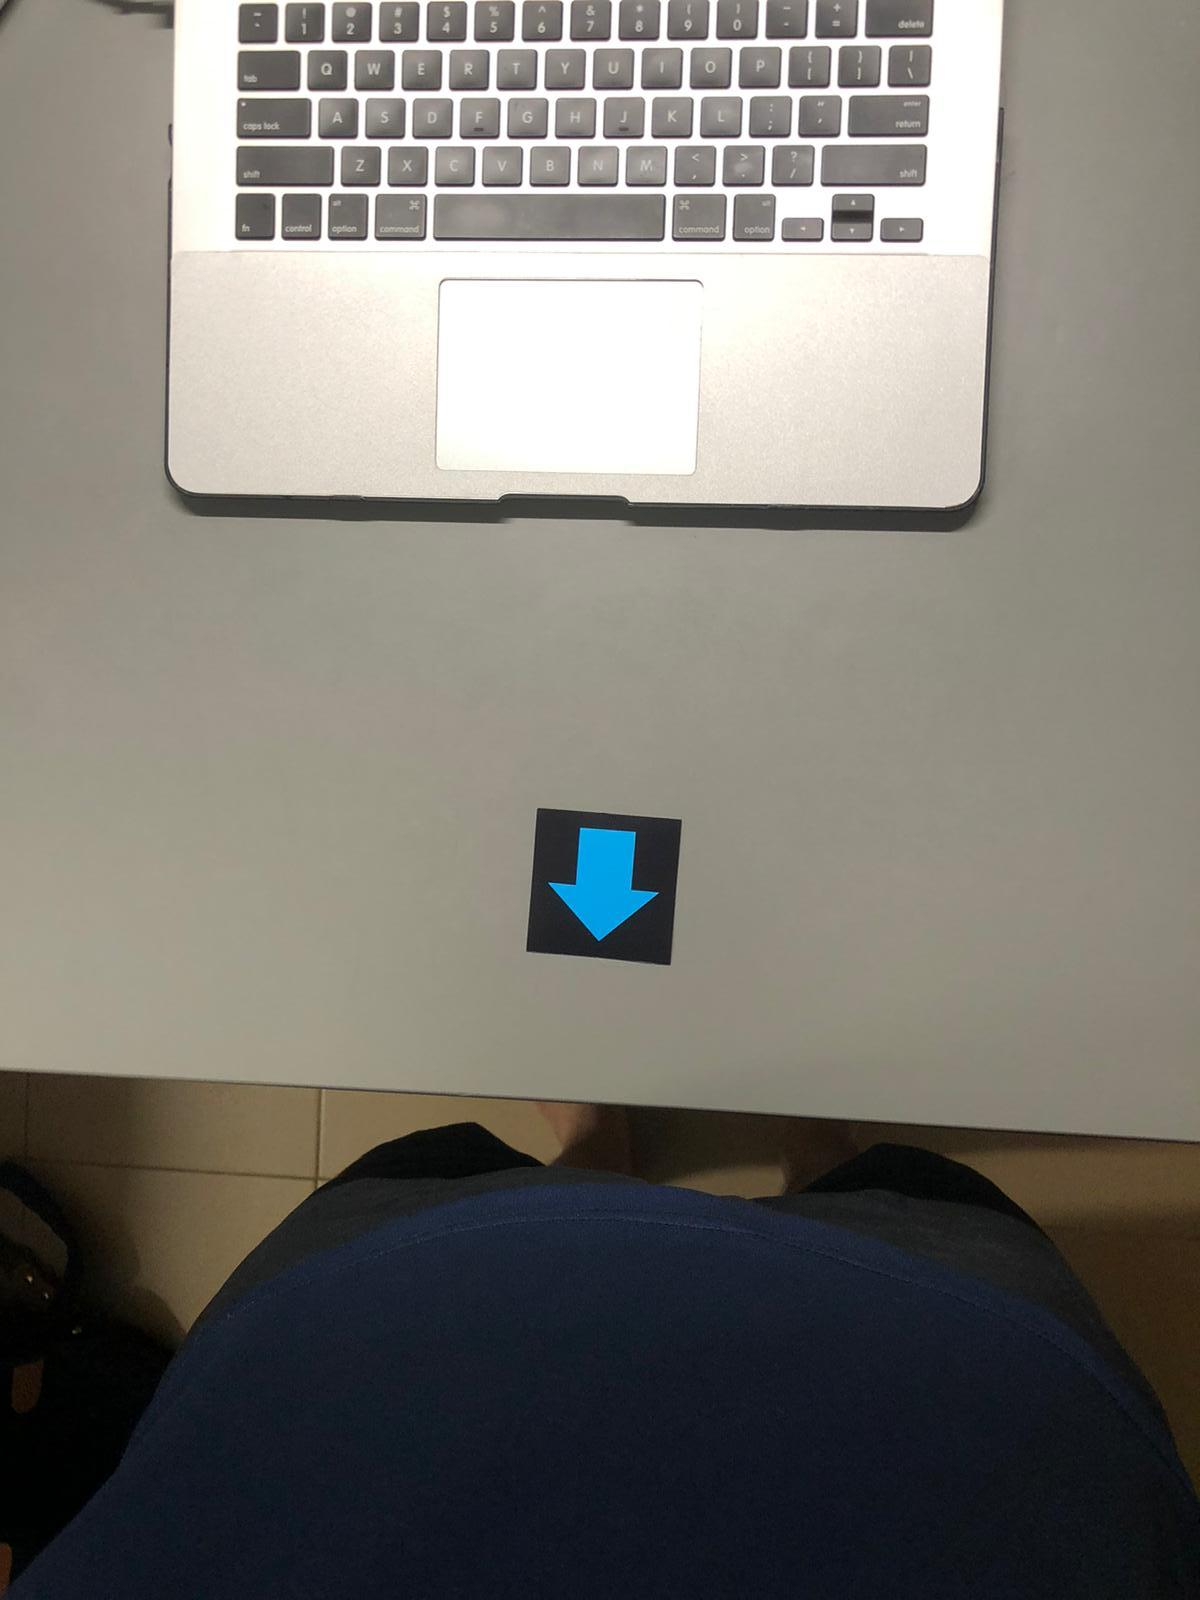Down Arrow: (539, 813, 673, 960)
